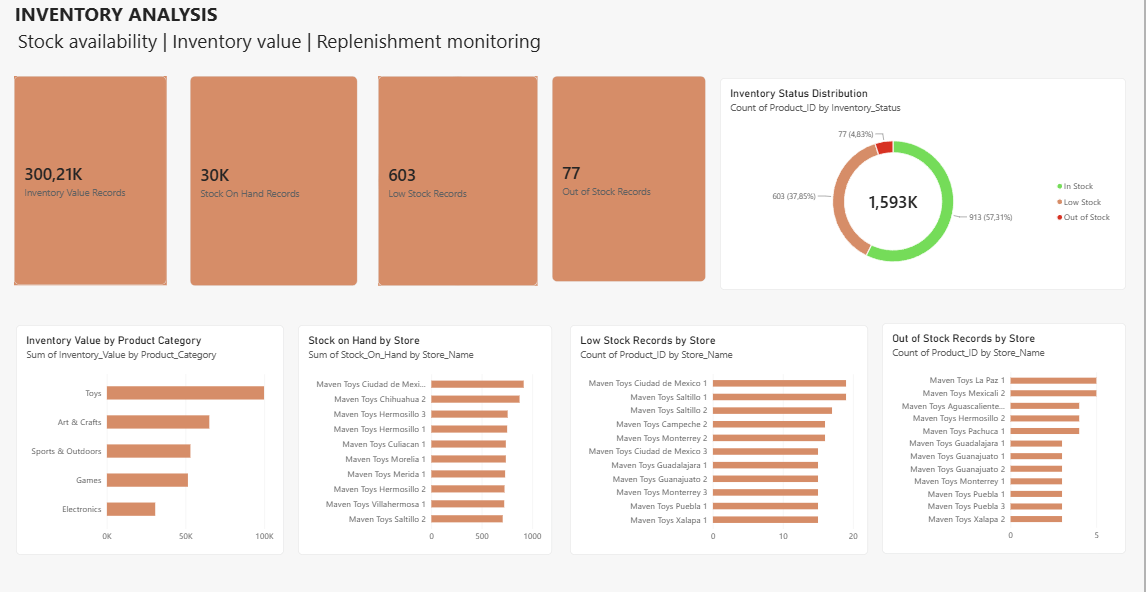

The page's visual inventory and layout, read from the dashboard file:
{"tool":"powerbi","page":{"name":"Inventory Analysis","canvas":[1920,1080],"ordinal":2},"visuals":[{"type":"textbox","box":[10,0,1257.7,127.1],"z":0},{"type":"cardVisual","fields":{"Data":["Sum(vw_InventoryStatus.Inventory_Value)"]},"box":[31.4,125.6,255.7,349.9],"z":1000},{"type":"cardVisual","fields":{"Data":["Sum(vw_InventoryStatus.Stock_On_Hand)"]},"box":[324.5,127.1,281,351.2],"z":2000},{"type":"cardVisual","fields":{"Data":["CountNonNull(vw_InventoryStatus.Product_ID)"]},"box":[638.9,127.1,267.6,351.2],"z":3000},{"type":"cardVisual","fields":{"Data":["CountNonNull(vw_InventoryStatus.Product_ID)"]},"box":[929.9,127.1,257.6,344.5],"z":4000},{"type":"donutChart","title":"Inventory Status Distribution","fields":{"Category":["vw_InventoryStatus.Inventory_Status"],"Y":["CountNonNull(vw_InventoryStatus.Product_ID)"]},"box":[1210.9,130.5,679,354.6],"z":5000},{"type":"clusteredBarChart","title":"Inventory Value by Product Category","fields":{"Category":["vw_InventoryStatus.Product_Category"],"Y":["Sum(vw_InventoryStatus.Inventory_Value)"]},"box":[32.2,542,448.2,384.7],"z":6000},{"type":"clusteredBarChart","title":"Stock on Hand by Store","fields":{"Category":["vw_InventoryStatus.Store_Name"],"Y":["Sum(vw_InventoryStatus.Stock_On_Hand)"]},"box":[505.1,541.9,424.8,384.7],"z":7000},{"type":"clusteredBarChart","title":"Low Stock Records by Store","fields":{"Category":["vw_InventoryStatus.Store_Name"],"Y":["CountNonNull(vw_InventoryStatus.Product_ID)"]},"box":[960,541.9,498.4,384.7],"z":8000},{"type":"clusteredBarChart","title":"Out of Stock Records by Store","fields":{"Category":["vw_InventoryStatus.Store_Name"],"Y":["CountNonNull(vw_InventoryStatus.Product_ID)"]},"box":[1480.4,538.3,408.2,385.8],"z":9000}]}

Visuals, with their boxes on the page's 1920x1080 design canvas (x1, y1, x2, y2). These are canvas units, not pixel positions in the 1146x592 screenshot, which may show the page scaled, cropped or inside an application window:
textbox: bbox=[10, 0, 1268, 127]
cardVisual - Sum(vw_InventoryStatus.Inventory_Value): bbox=[31, 126, 287, 476]
cardVisual - Sum(vw_InventoryStatus.Stock_On_Hand): bbox=[324, 127, 606, 478]
cardVisual - CountNonNull(vw_InventoryStatus.Product_ID): bbox=[639, 127, 906, 478]
cardVisual - CountNonNull(vw_InventoryStatus.Product_ID): bbox=[930, 127, 1188, 472]
"Inventory Status Distribution" donutChart: bbox=[1211, 130, 1890, 485]
"Inventory Value by Product Category" clusteredBarChart: bbox=[32, 542, 480, 927]
"Stock on Hand by Store" clusteredBarChart: bbox=[505, 542, 930, 927]
"Low Stock Records by Store" clusteredBarChart: bbox=[960, 542, 1458, 927]
"Out of Stock Records by Store" clusteredBarChart: bbox=[1480, 538, 1889, 924]
